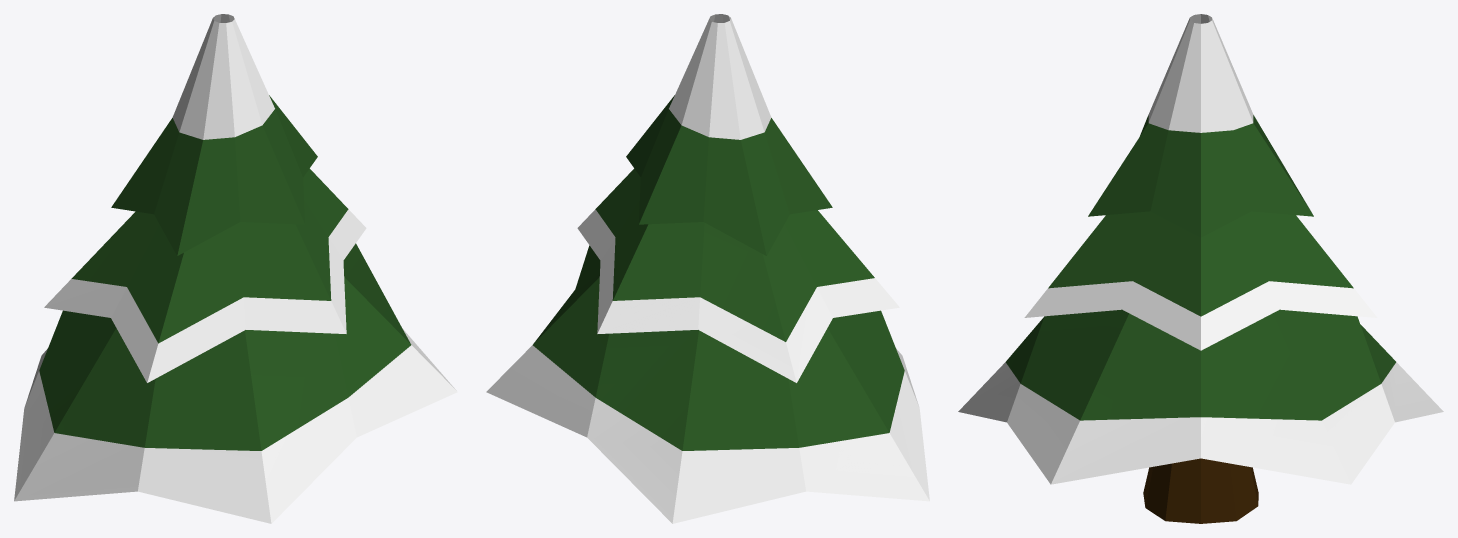
The model's file is green_tree_snow2.glb.
3 views of the same model, side by side, from view 1: azimuth 30°, elevation 25°; view 2: azimuth 150°, elevation 25°; view 3: azimuth 270°, elevation 25° (orthographic). The views are drawn at different scales.
Visible parts, largest first — view 1: Tree06_Green011_0, Tree06_White1_0; view 2: Tree06_Green011_0, Tree06_White1_0; view 3: Tree06_Green011_0, Tree06_White1_0, Tree06_Brown06_0.
Boxes of the visible parts, x1=… form: Tree06_Green011_0: x1=39, y1=95, x2=411, y2=450; Tree06_White1_0: x1=14, y1=14, x2=457, y2=523; Tree06_Green011_0: x1=533, y1=95, x2=904, y2=450; Tree06_White1_0: x1=486, y1=14, x2=929, y2=523; Tree06_Green011_0: x1=1006, y1=115, x2=1395, y2=420; Tree06_White1_0: x1=958, y1=14, x2=1443, y2=484; Tree06_Brown06_0: x1=1143, y1=458, x2=1258, y2=523.
Size of the model in its own units: 6.19 by 7.25 by 6.61.
